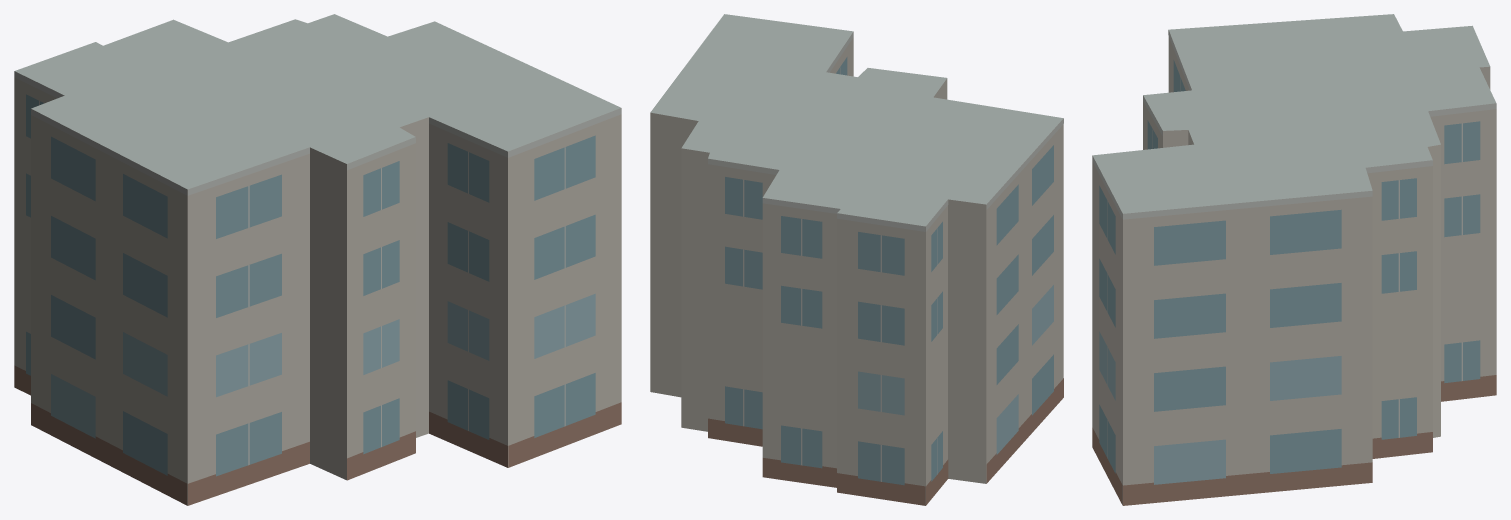
Rendered from survey-upis-32638557.glb.
The picture shows the model from 3 angles, left to right: view 1: azimuth 30°, elevation 25°; view 2: azimuth 150°, elevation 25°; view 3: azimuth 270°, elevation 25°; orthographic projection. The views are drawn at different scales.
Visible parts, largest first — view 1: survey-upis-32638557.tmp; view 2: survey-upis-32638557.tmp; view 3: survey-upis-32638557.tmp.
Boxes of the visible parts, bbox=[...] form: survey-upis-32638557.tmp: bbox=[14, 14, 621, 505]; survey-upis-32638557.tmp: bbox=[650, 14, 1063, 505]; survey-upis-32638557.tmp: bbox=[1092, 14, 1496, 505].
Bounding box in the file's own units: 17.92 × 12.2 × 15.31.
